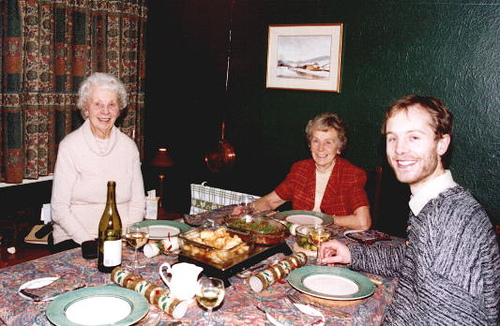without_mask: (380, 107, 453, 188), (79, 82, 128, 136), (306, 124, 348, 167)
